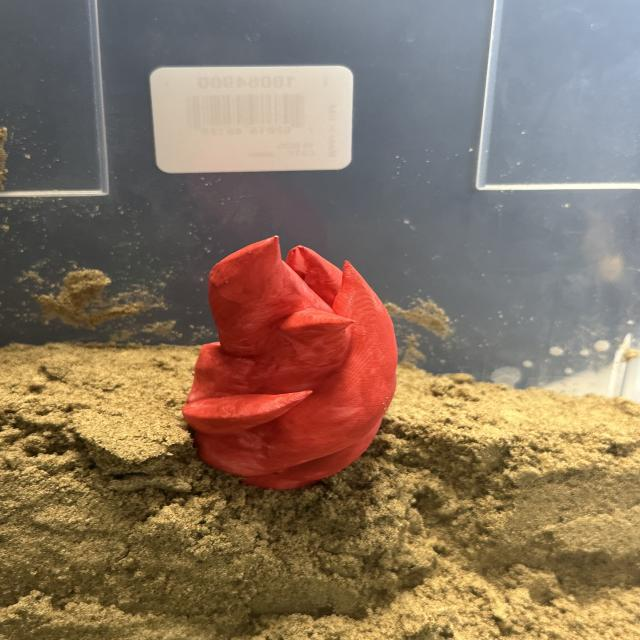fire: (179, 234, 400, 492)
